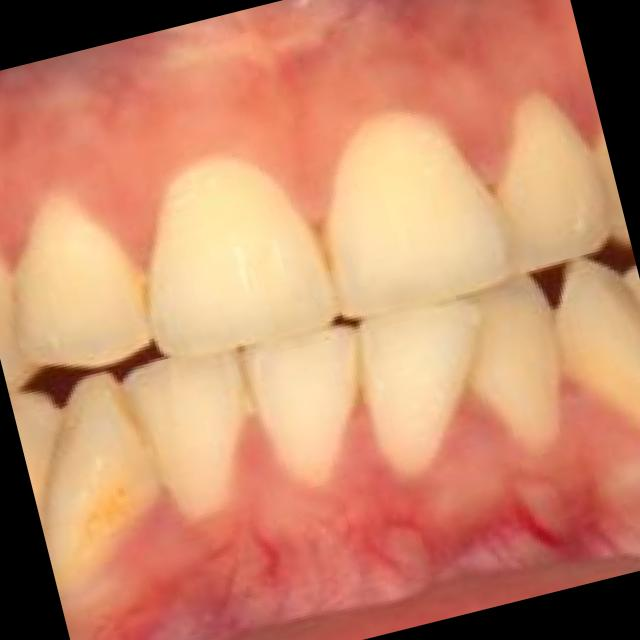karies: (114, 254, 170, 320), (306, 210, 347, 272)
